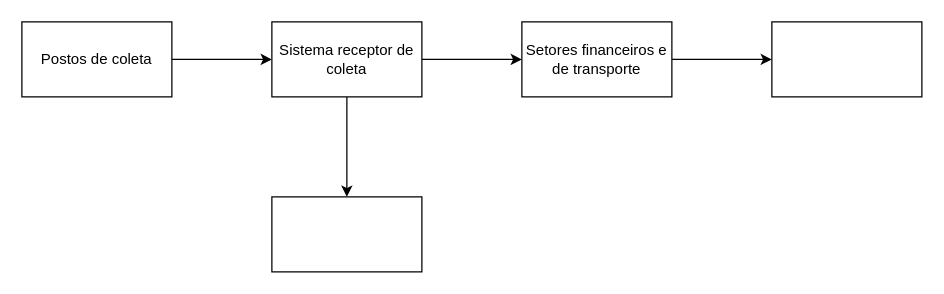
This 944x294 diagram has some shape labels left out. Here are the shapes that lost their labels. From the top down, the centre of each, then its label:
At pixel 846 59: "Processamento de envio para destino final".
At pixel 346 234: "Novo sistema central de coleta".
